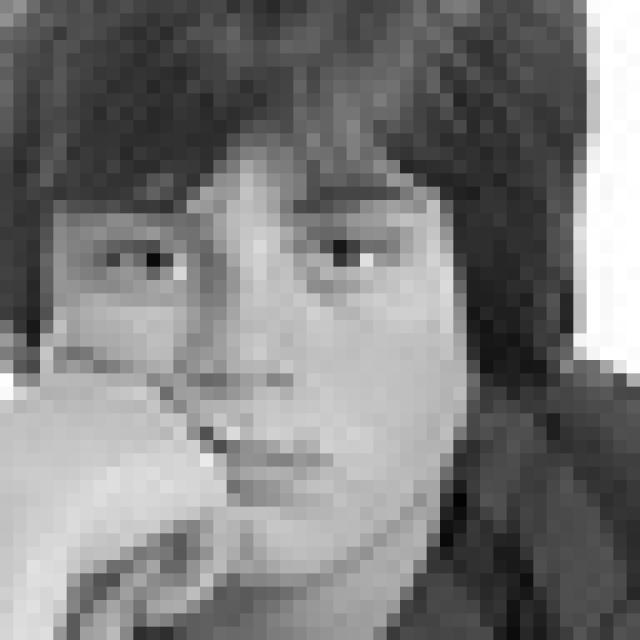neutral: (76, 173, 426, 516)
